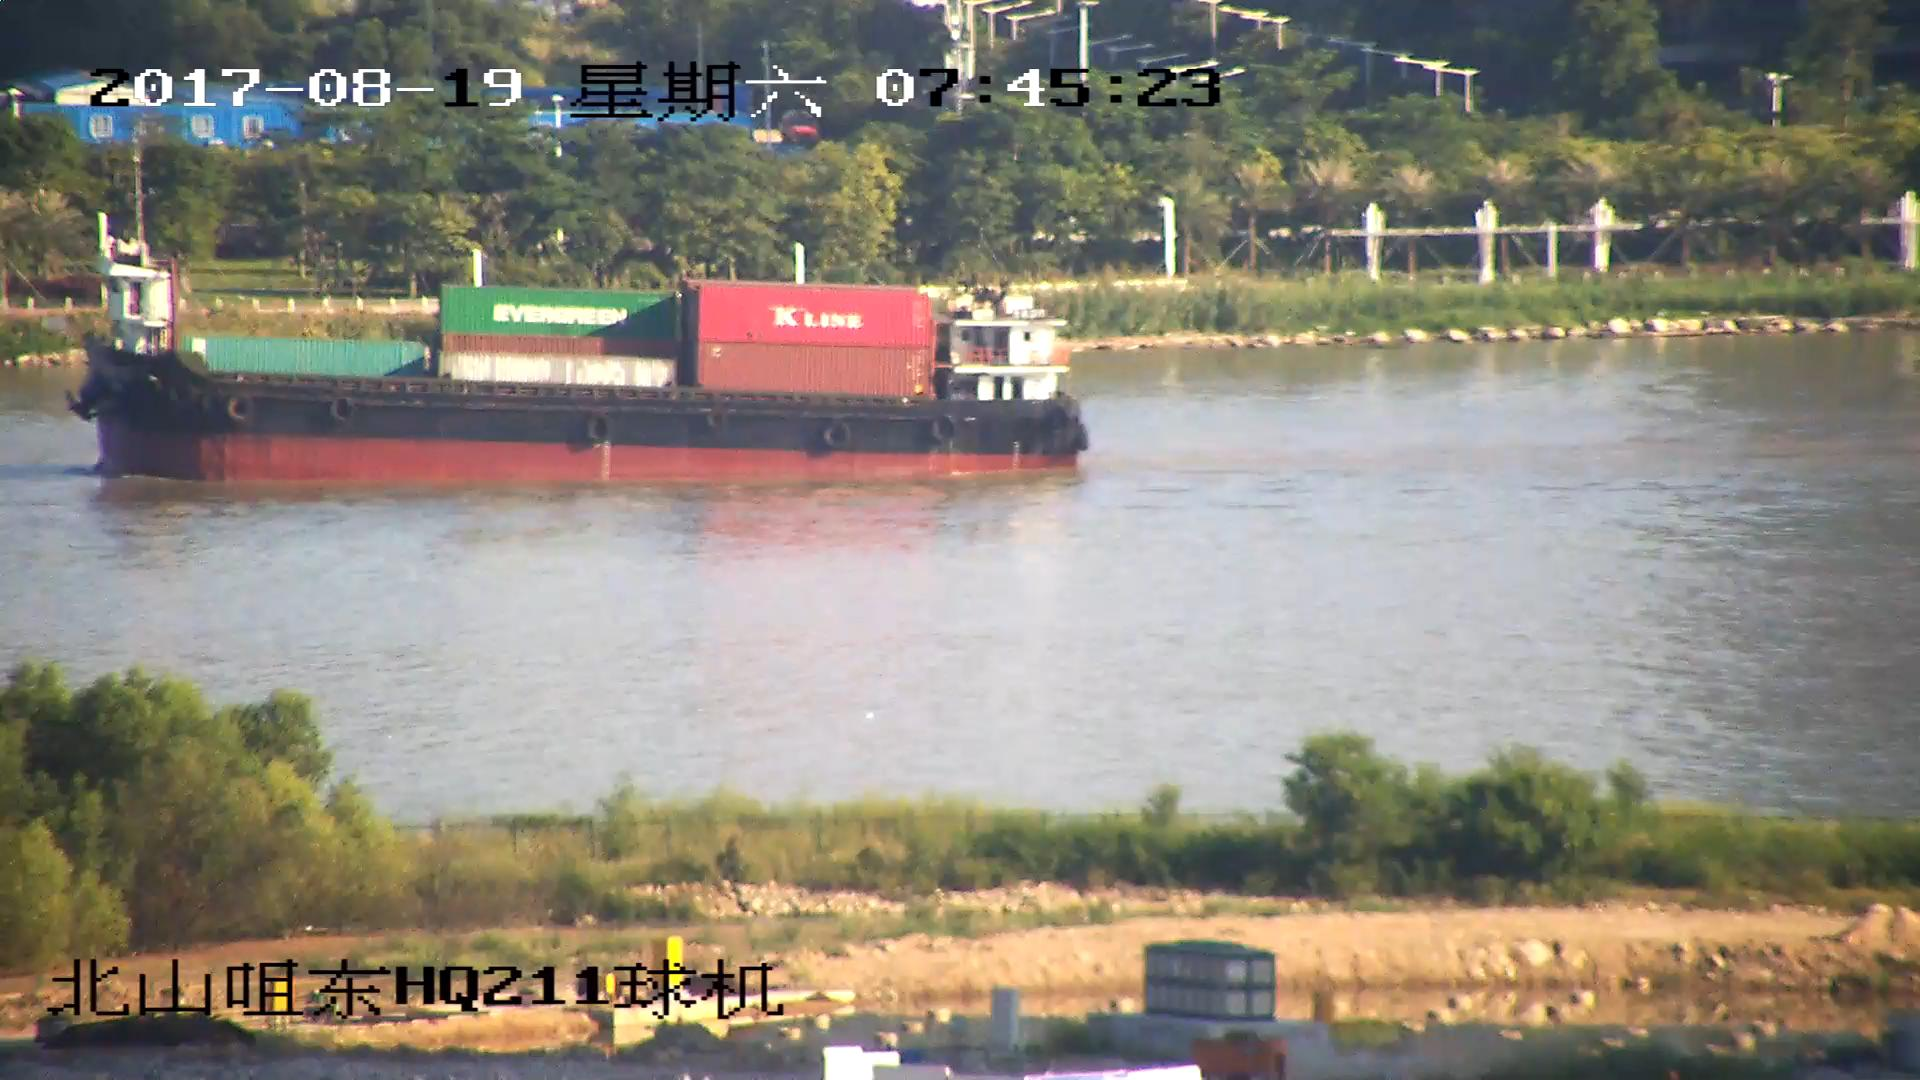container ship: (63, 156, 1086, 486)
